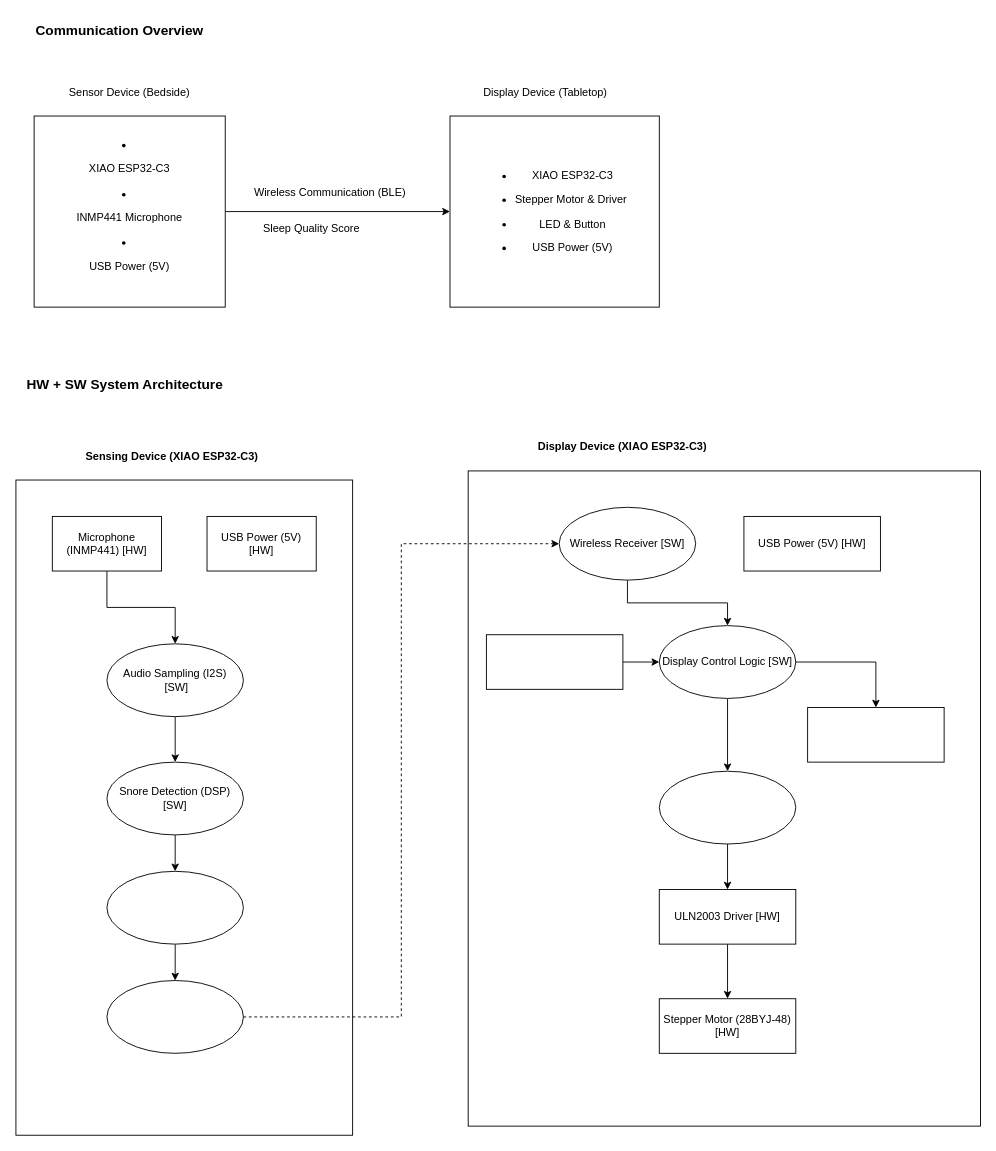
This 996x1151 diagram has some shape labels left out. Each missing label, with the centre of its shape:
"Button Input [HW]" belongs at pixel 554 661.
"LED Indicator [HW]" belongs at pixel 875 734.
"Sleep Scoring Logic [SW]" belongs at pixel 174 907.
"Stepper Control [SW]" belongs at pixel 727 807.
"Wireless Transmission (ESP-NOW) [SW]" belongs at pixel 174 1016.
